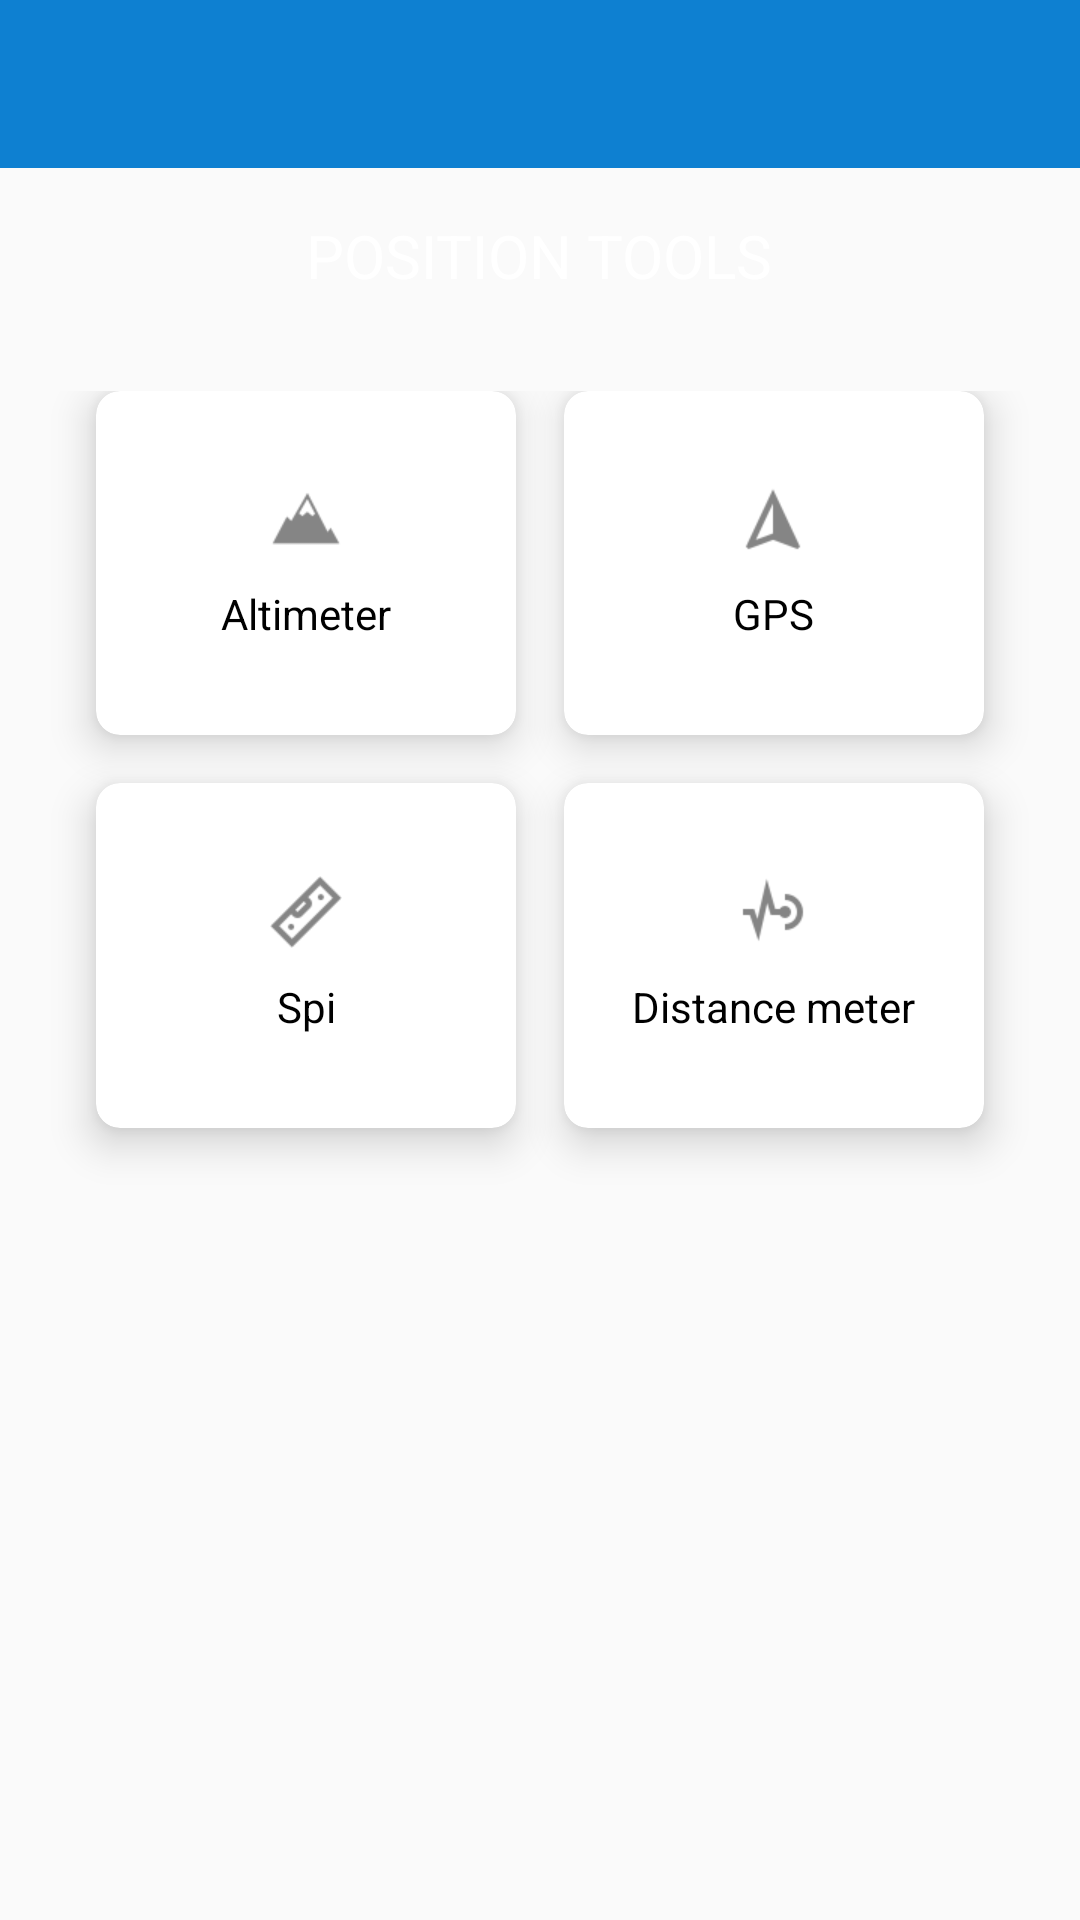

Icon click points for this 1080*1920 phone screenshot, format (x,y):
altitude: (306,518)
proxyimity: (773,910)
